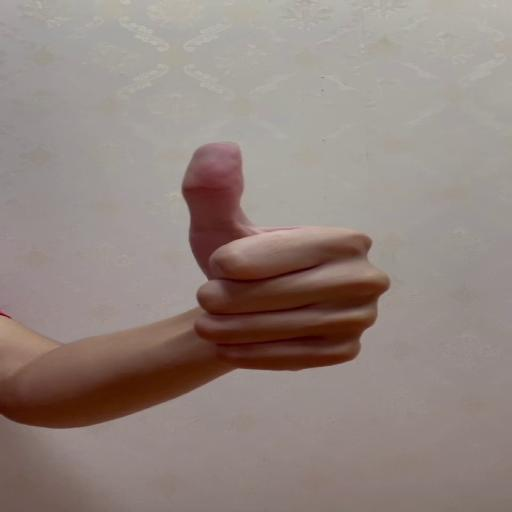thumbs_up: (178, 139, 391, 374)
